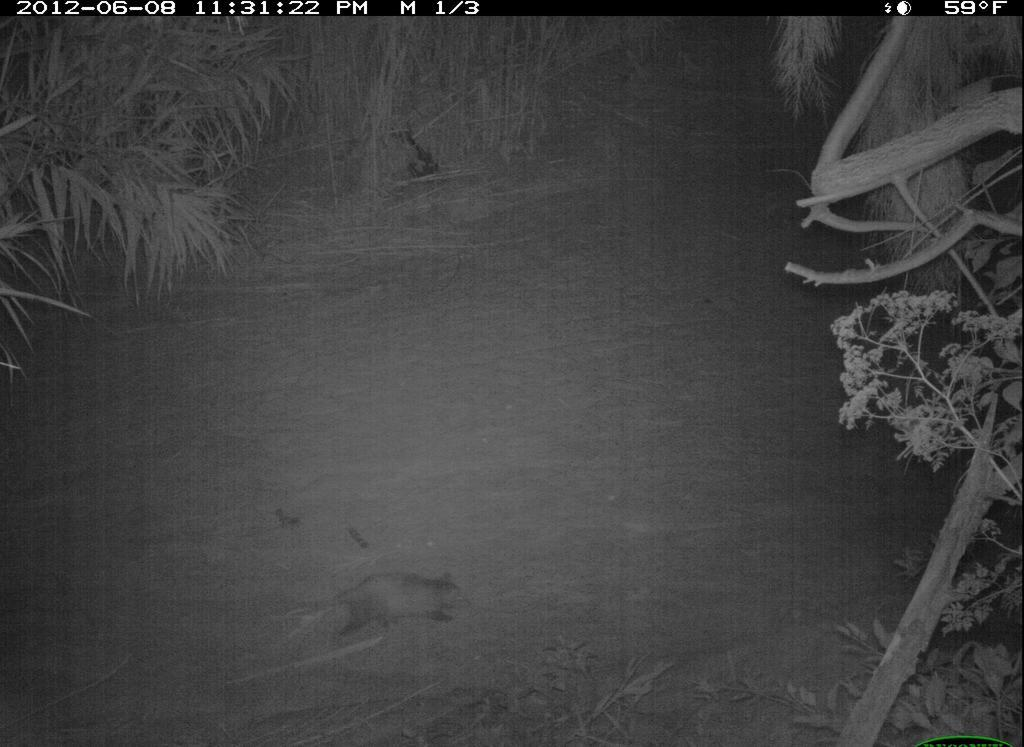opossum: (285, 556, 486, 644)
